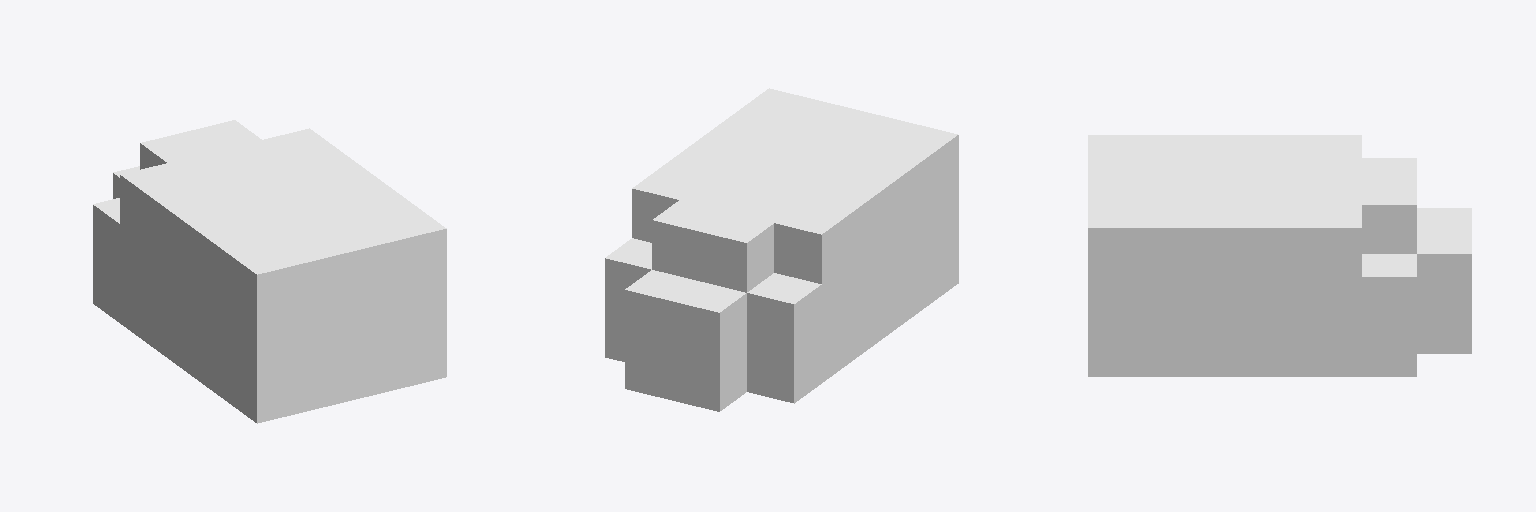
Rendered from foot.obj.
3 renders of one model, left to right at view 1: azimuth 30°, elevation 25°; view 2: azimuth 150°, elevation 25°; view 3: azimuth 270°, elevation 25°, orthographic.
Size of the model in its own units: 4 by 3 by 7.